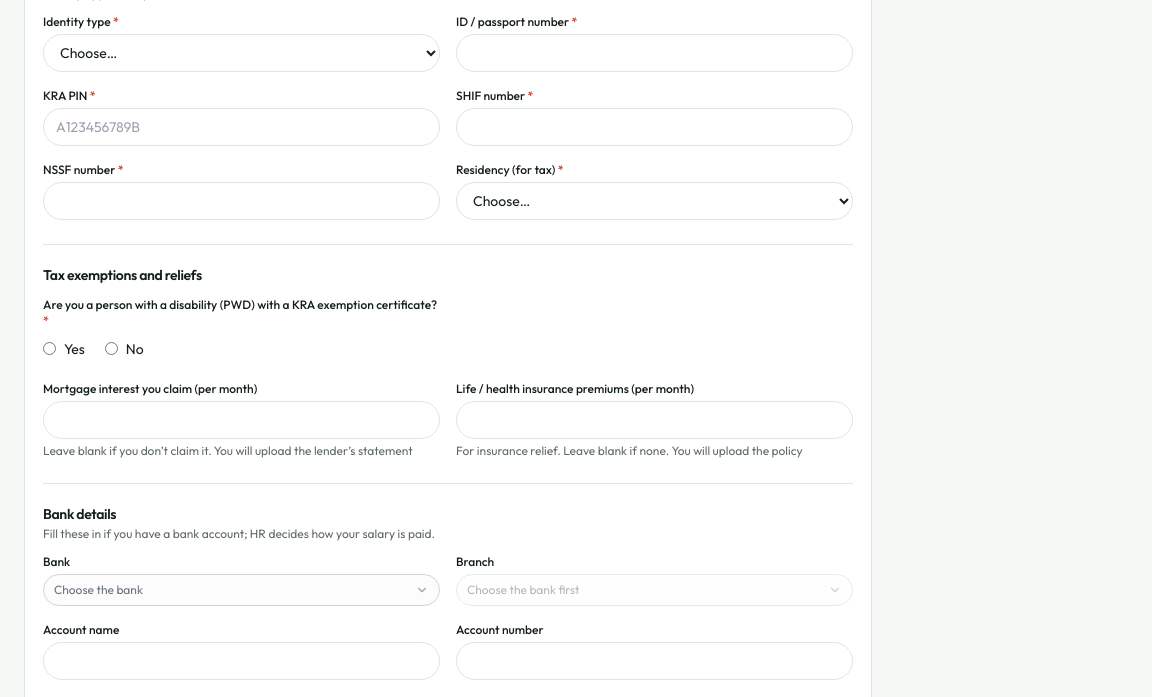
it: OnboardingForm › asks for the exemption certificate number only from a person with a disability
(page scrolled)
Check: the text "person with a disability" is shown, box [43,297,437,312]
Check: the text "Exemption certificate number" is not shown
Click the radio button labelled "Yes".
click(50, 348)  # box [43,342,56,355]
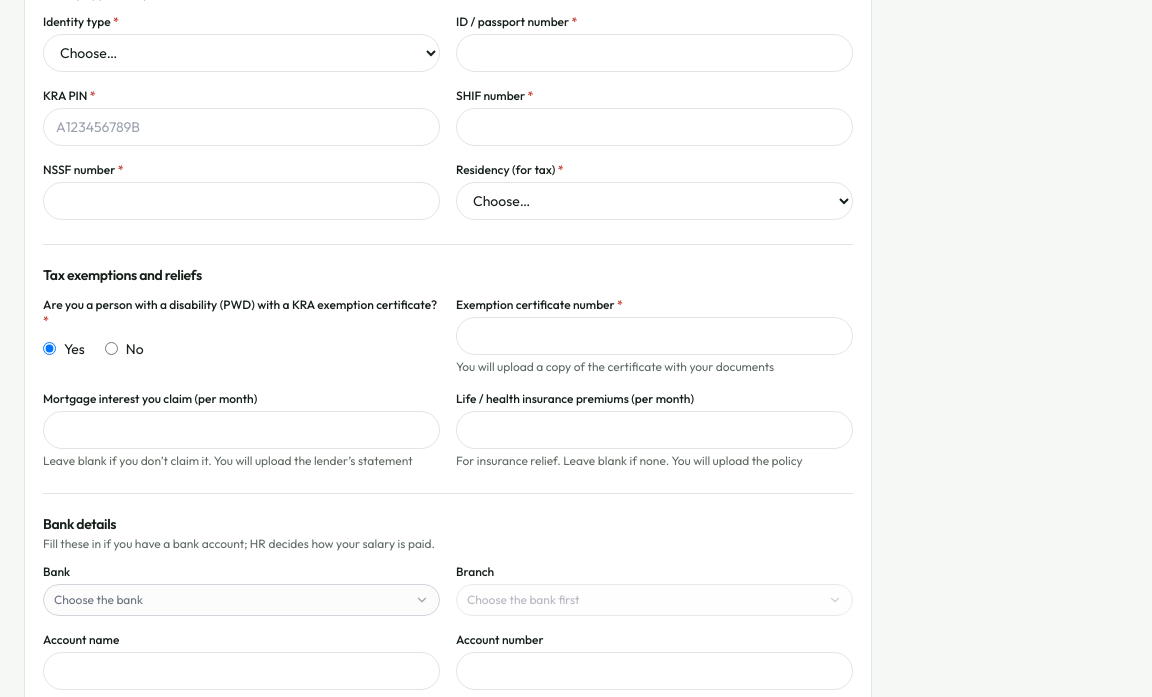
Check: the text "Exemption certificate number" is shown, box [456,297,615,312]
